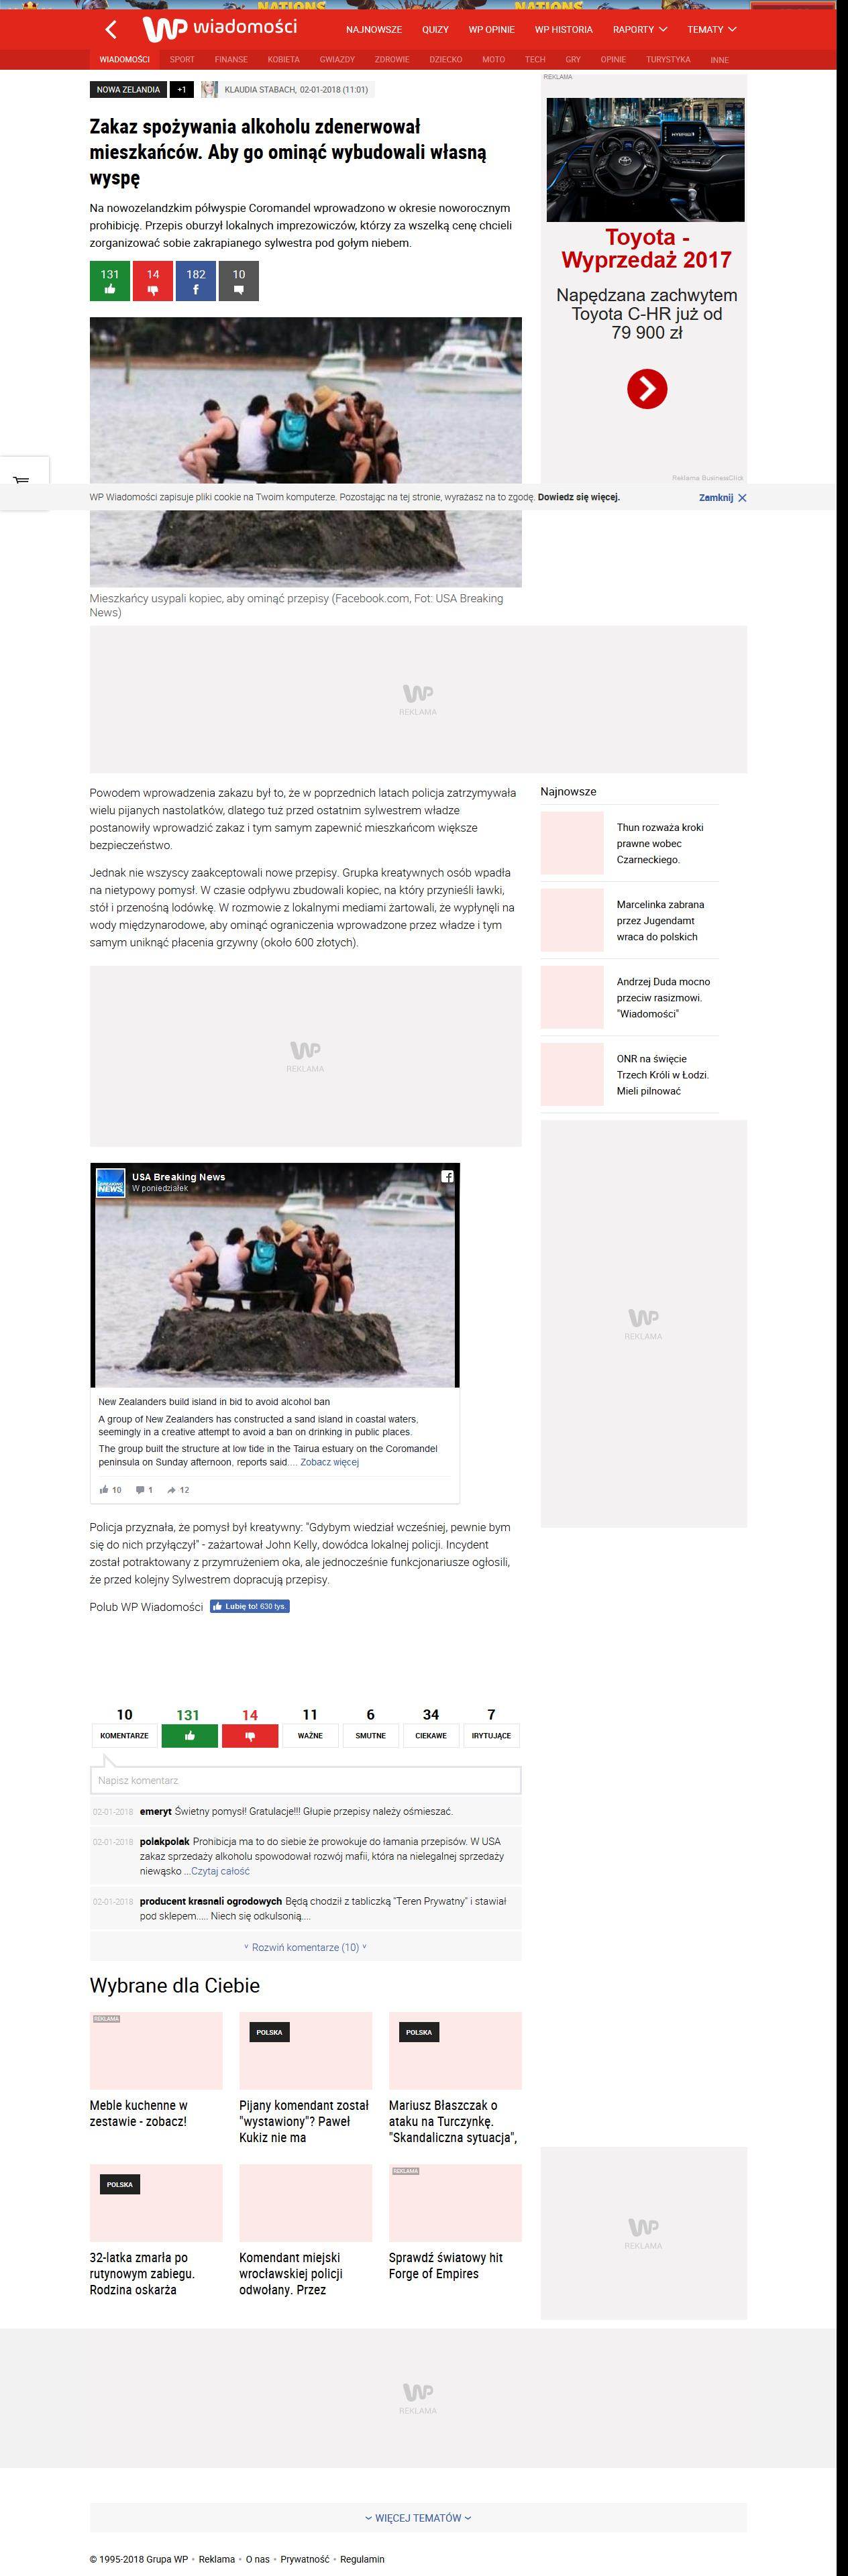title: (89, 117, 486, 191)
